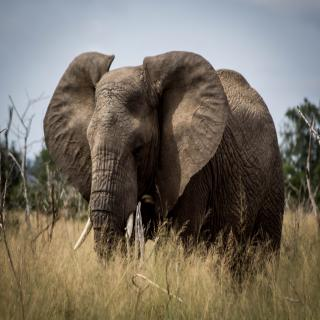Elephant: (40, 43, 289, 294)
